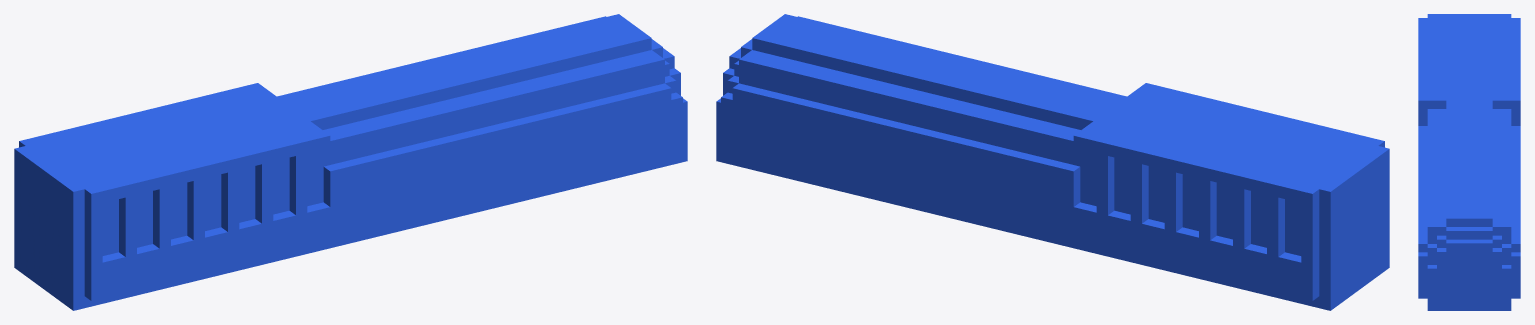
Rendered from head.gltf.
3 views of the same model, side by side, from view 1: azimuth 30°, elevation 25°; view 2: azimuth 150°, elevation 25°; view 3: azimuth 270°, elevation 25° (orthographic). The views are drawn at different scales.
Visible parts, largest first — view 1: head; view 2: head; view 3: head.
Boxes of the visible parts, box(x1,y1,x2,y2) form: head: box(14, 14, 687, 310); head: box(716, 14, 1389, 310); head: box(1418, 14, 1520, 310).
Bounding box in the file's own units: 54 × 10 × 11.
Materials: 1 (1 with a texture image).
